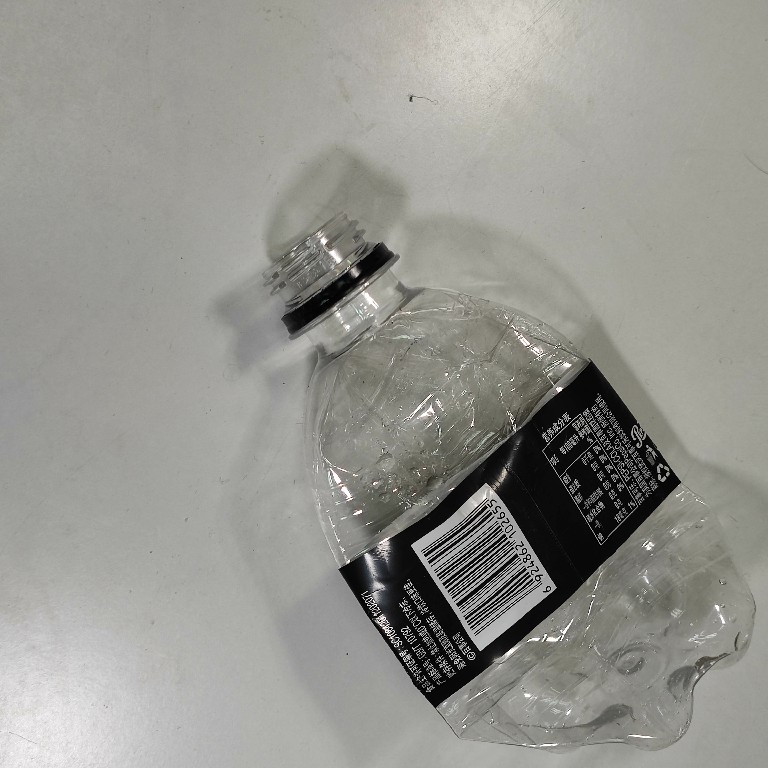bottle: (256, 209, 768, 757)
